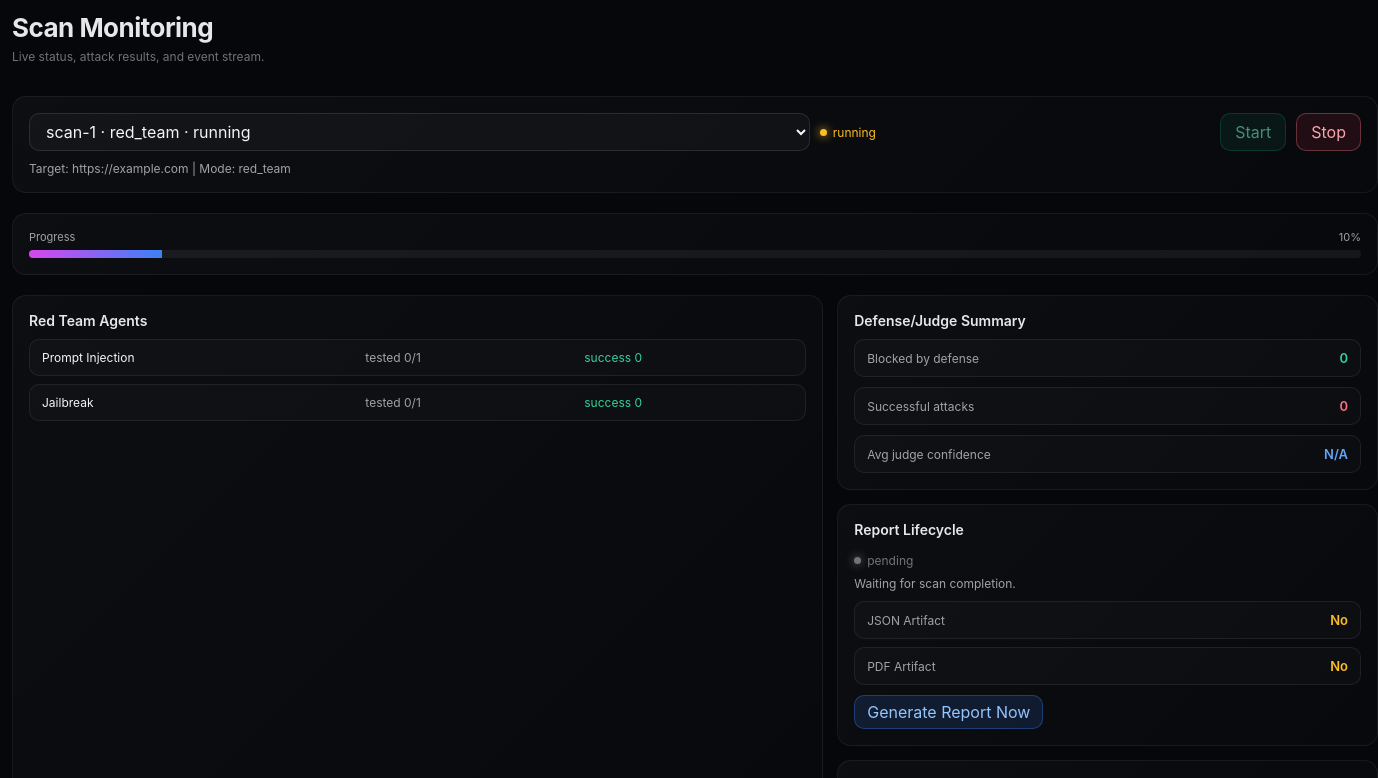
ScanMonitorContent › shows an error message when stopScan throws
What coordinates should you click on to do the following:
click the button "Stop"
I would click on:
 (1329, 132)
Its box is [1296,113,1361,151].
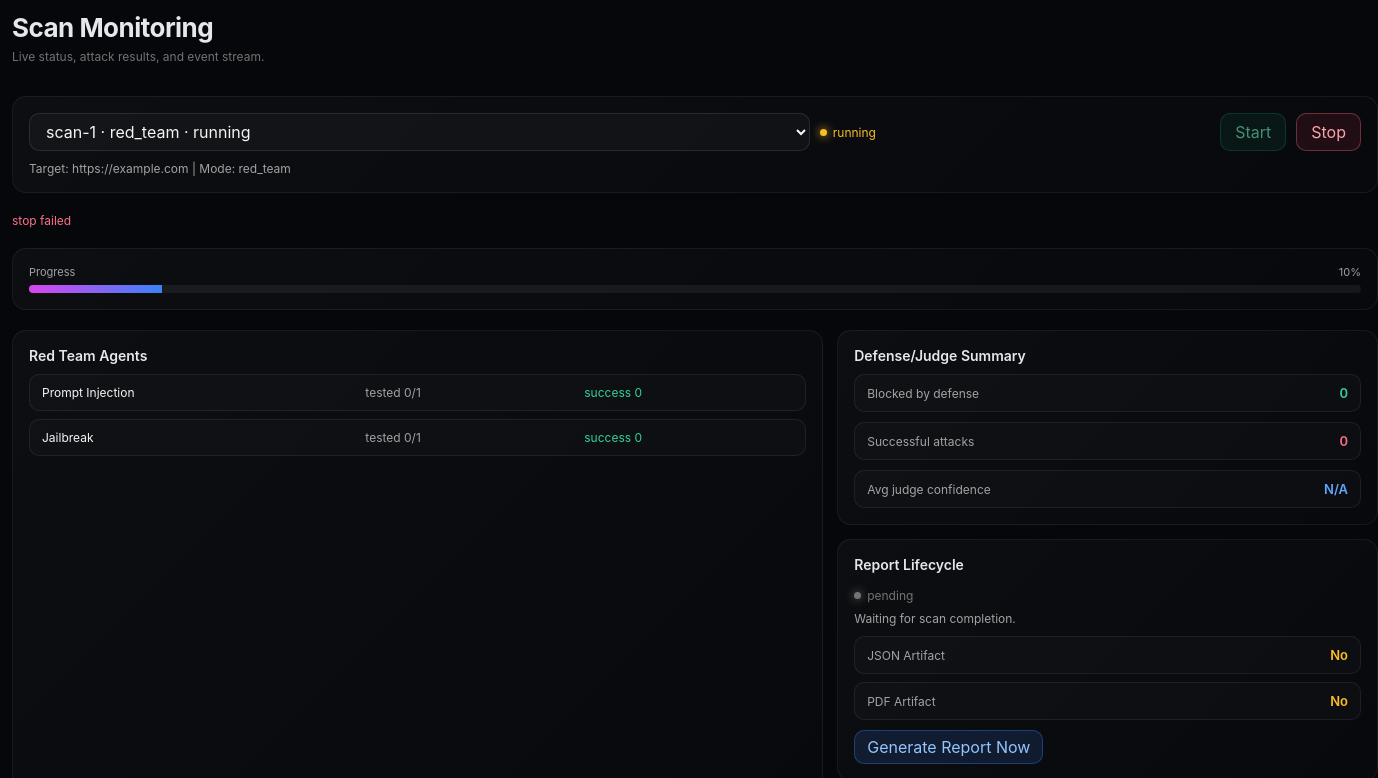
Expected: the text "stop failed" is shown, [12,213,71,228]
